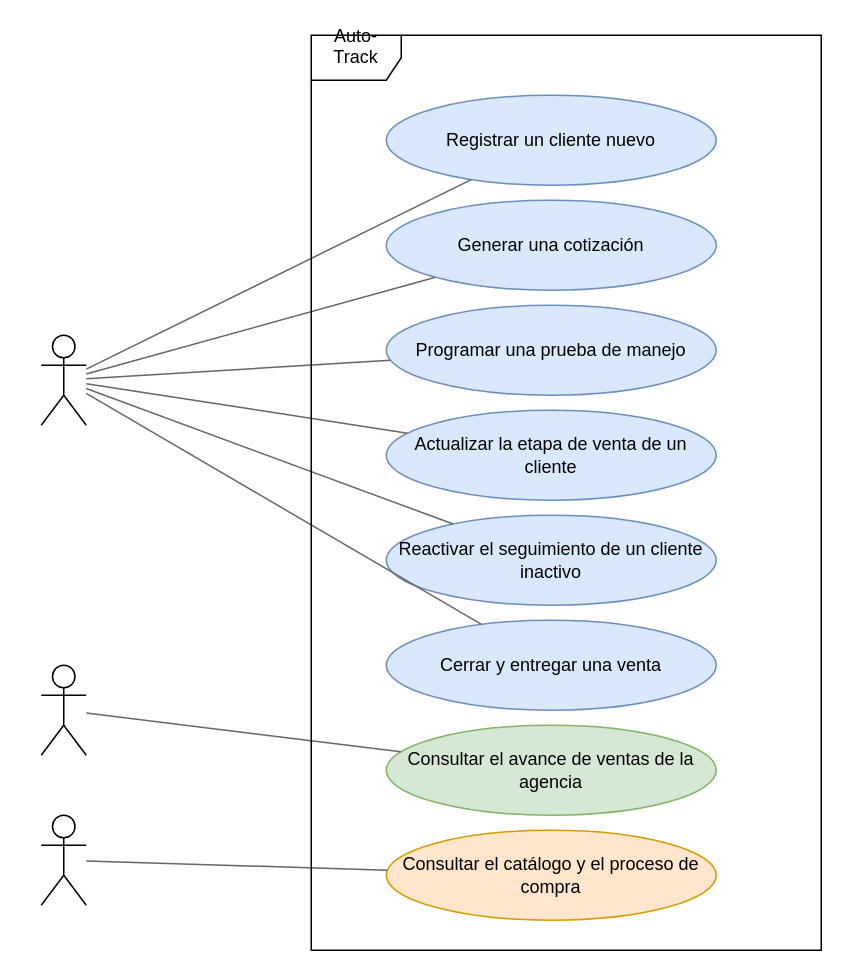
Image size: 848x977. Some labels were removed from this diagram. The box of each missing label's shape, as (x1, y1, x2, y2) in pixels:
Cliente: (40, 814, 86, 905)
Gerente: (40, 664, 86, 755)
Vendedor: (40, 334, 86, 425)
